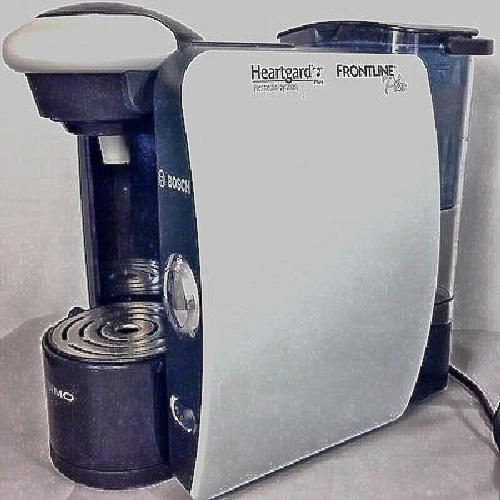coffee_maker: (24, 14, 237, 484)
